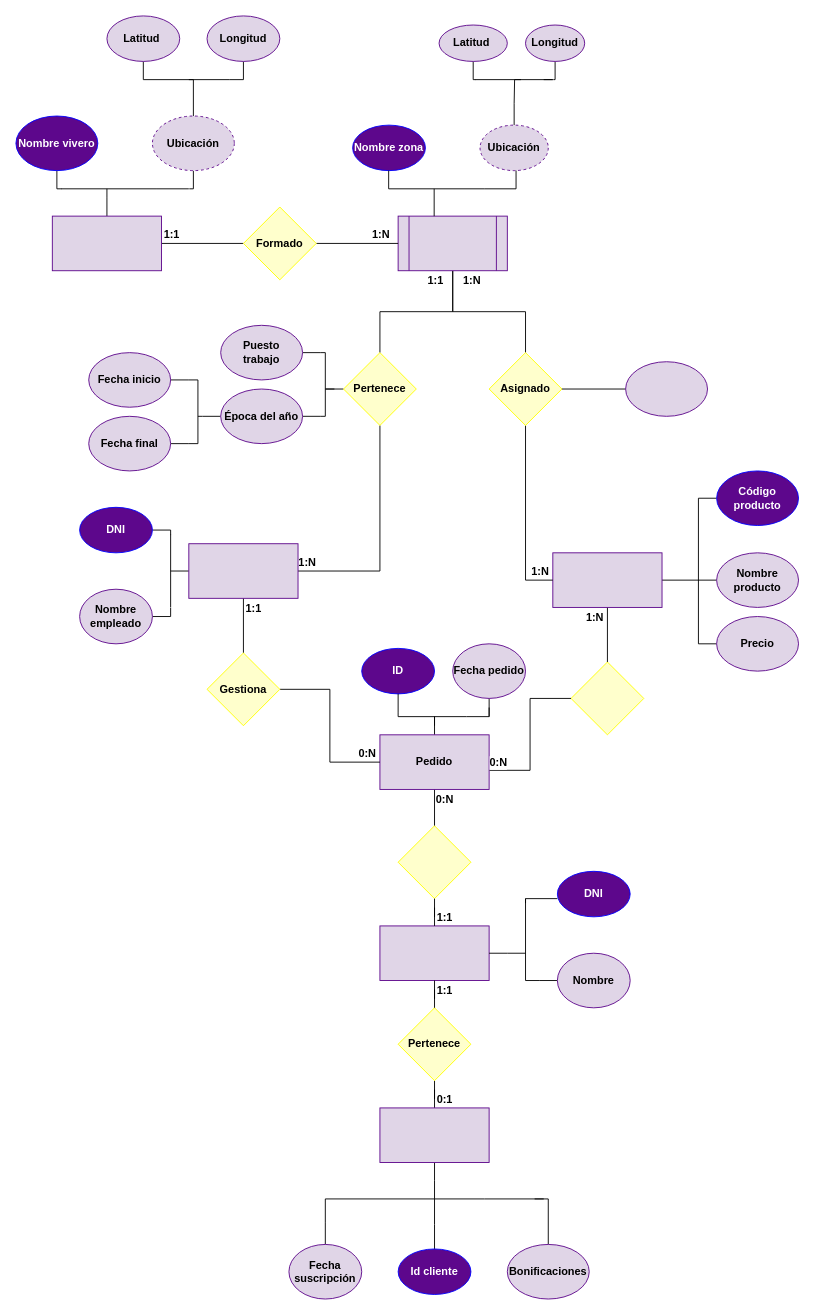
Image size: 814x1315. Some labels were removed from this diagram. The box of each missing label's shape, as (x1, y1, x2, y2) in pixels:
Cliente: (379, 925, 489, 981)
Disponibilidad: (625, 361, 708, 416)
Empleado: (188, 543, 298, 598)
Forma: (570, 661, 644, 735)
Producto: (552, 552, 662, 607)
Realiza: (397, 825, 471, 899)
Tajinaste Plus: (379, 1107, 489, 1163)
Vivero: (51, 215, 162, 271)
Zona: (397, 215, 507, 271)
